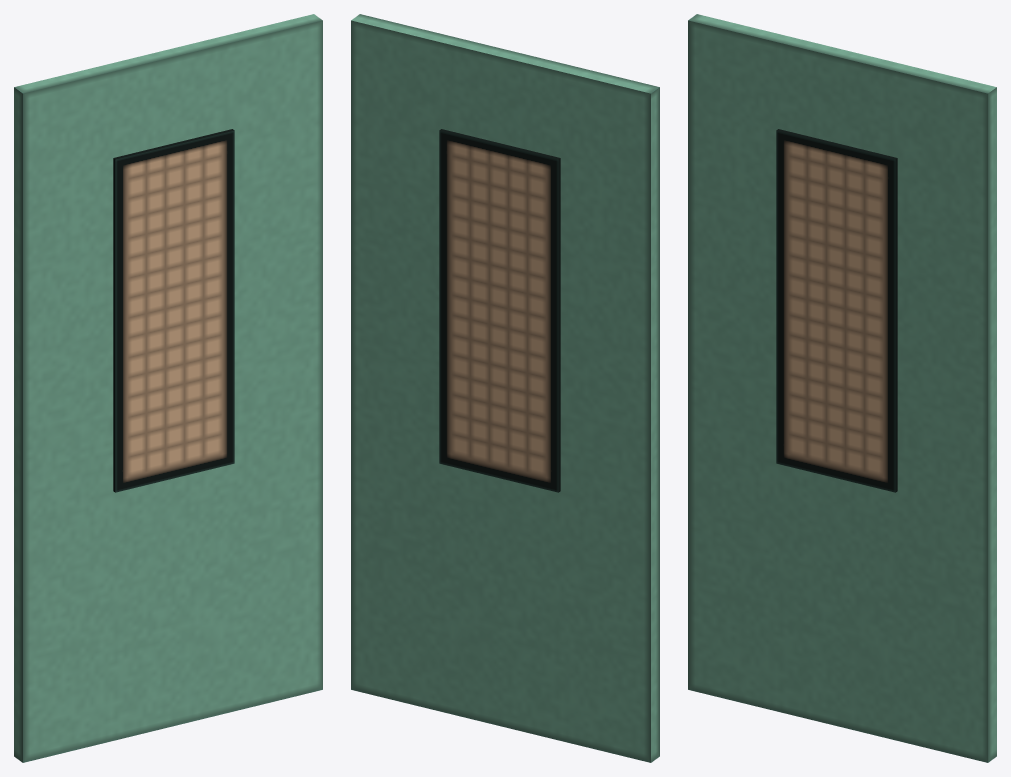
Rendered from SM_Lab_DoorLeaf_Observation_98x209.fbx.
3 renders of one model, left to right at view 1: azimuth 30°, elevation 25°; view 2: azimuth 150°, elevation 25°; view 3: azimuth 330°, elevation 25°, orthographic.
Visible parts, largest first — view 1: SM_Lab_DoorLeaf_Observation_98x209; view 2: SM_Lab_DoorLeaf_Observation_98x209; view 3: SM_Lab_DoorLeaf_Observation_98x209.
Part boxes in pixels (x1=…): SM_Lab_DoorLeaf_Observation_98x209: x1=14, y1=14, x2=322, y2=762; SM_Lab_DoorLeaf_Observation_98x209: x1=351, y1=14, x2=659, y2=762; SM_Lab_DoorLeaf_Observation_98x209: x1=688, y1=14, x2=996, y2=762.
Size of the model in its own units: 0.98 by 2.09 by 0.074.
